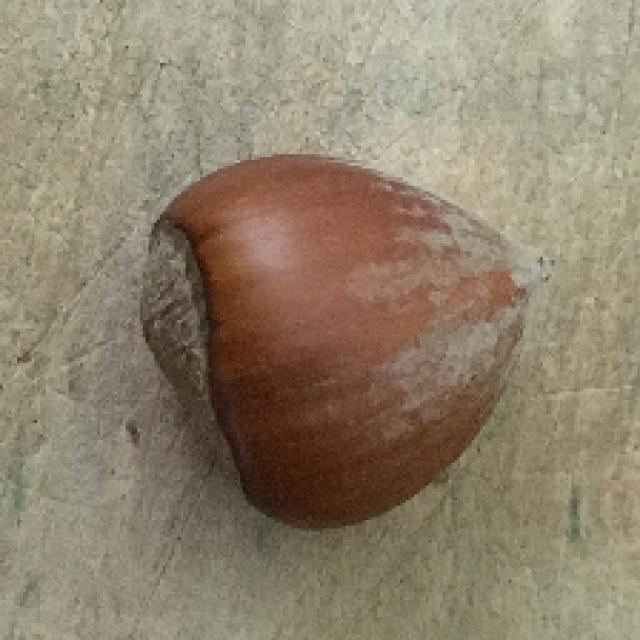qualityHazelnut: (132, 157, 553, 532)
